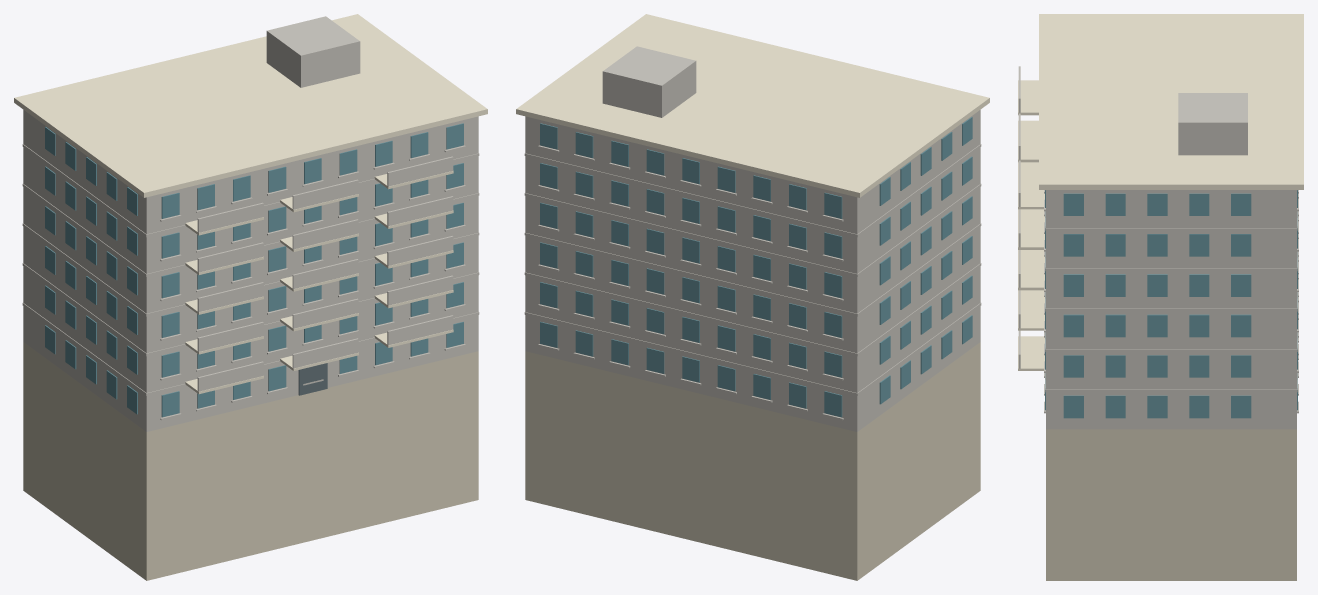
File: apartment-0.glb
3 renders of one model, left to right at view 1: azimuth 30°, elevation 25°; view 2: azimuth 150°, elevation 25°; view 3: azimuth 270°, elevation 25°, orthographic.
Bounding box in the file's own units: 29 × 34.2 × 20.5.
